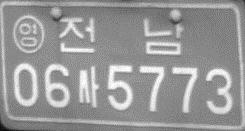0: (12, 63, 38, 106)
3: (204, 67, 233, 115)
5: (106, 63, 134, 112)
6: (43, 63, 71, 108)
7: (138, 65, 166, 112), (171, 67, 198, 114)
사: (75, 65, 100, 108)
영: (11, 14, 45, 54)
전남_D: (57, 16, 183, 55)
